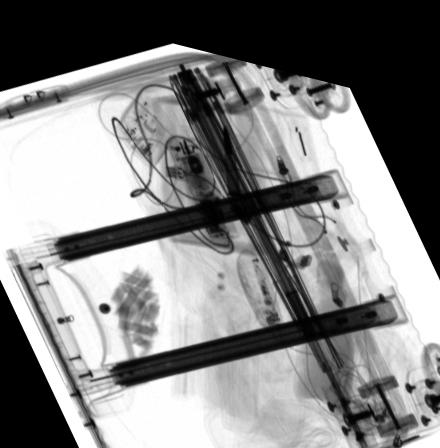Bullet: (221, 113, 240, 185)
